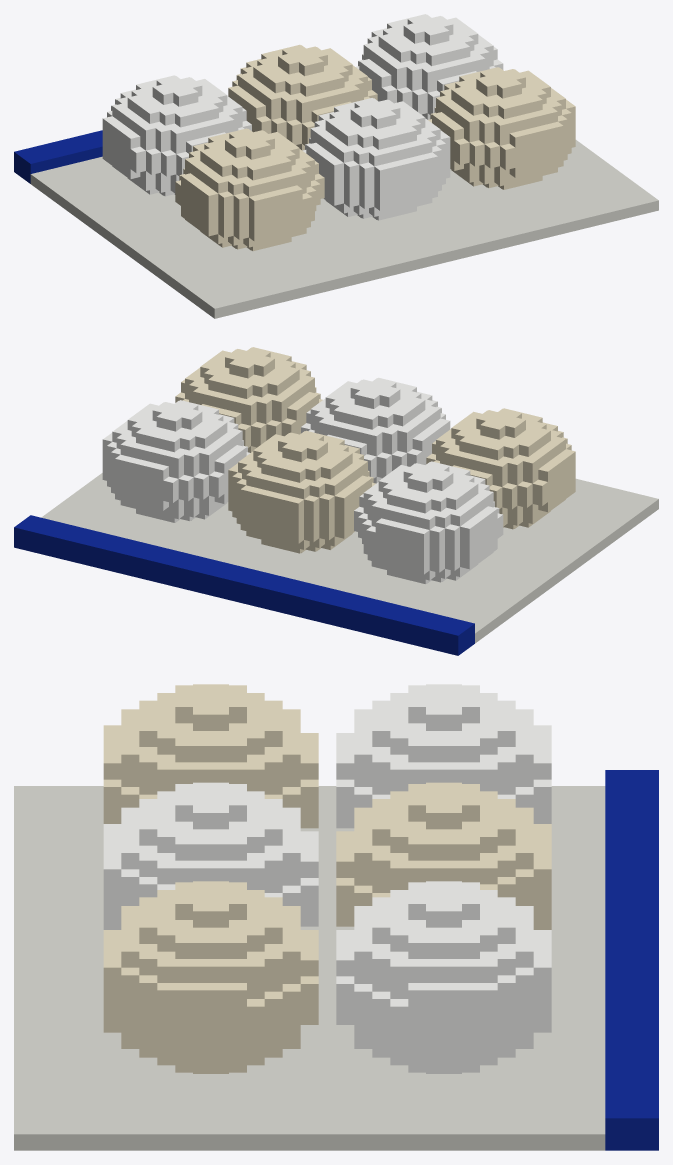
File: disincotton_ball.glb
3 renders of one model, top to bottom at view 1: azimuth 30°, elevation 25°; view 2: azimuth 150°, elevation 25°; view 3: azimuth 270°, elevation 25°, orthographic. The views are drawn at different scales.
Parts seen in each view (by area): view 1: disincotton_ball:compound; view 2: disincotton_ball:compound; view 3: disincotton_ball:compound.
Boxes of the visible parts, x1,y1,x2,y2 form: disincotton_ball:compound: [14, 14, 658, 318]; disincotton_ball:compound: [14, 347, 658, 655]; disincotton_ball:compound: [14, 684, 658, 1150].
Size of the model in its own units: 0.092 by 0.022 by 0.072.
